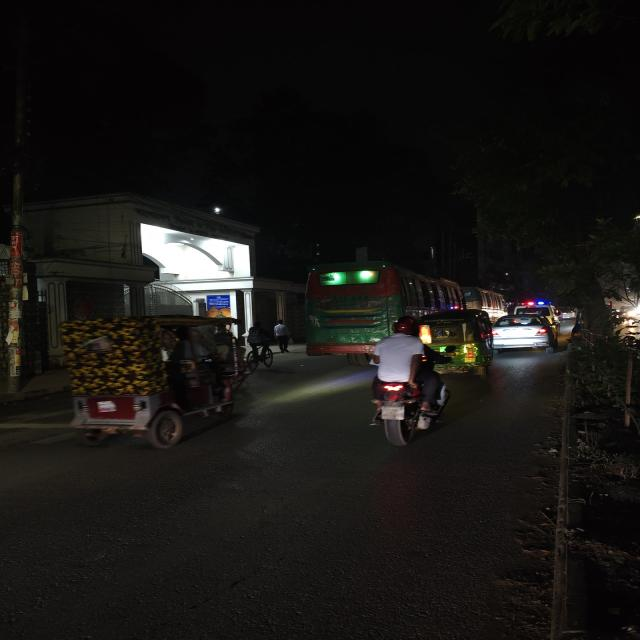bus: (298, 258, 467, 360)
car: (491, 309, 566, 353)
cng: (418, 309, 496, 378)
motorcycle: (355, 316, 452, 450)
rickshaw: (47, 310, 259, 464)
